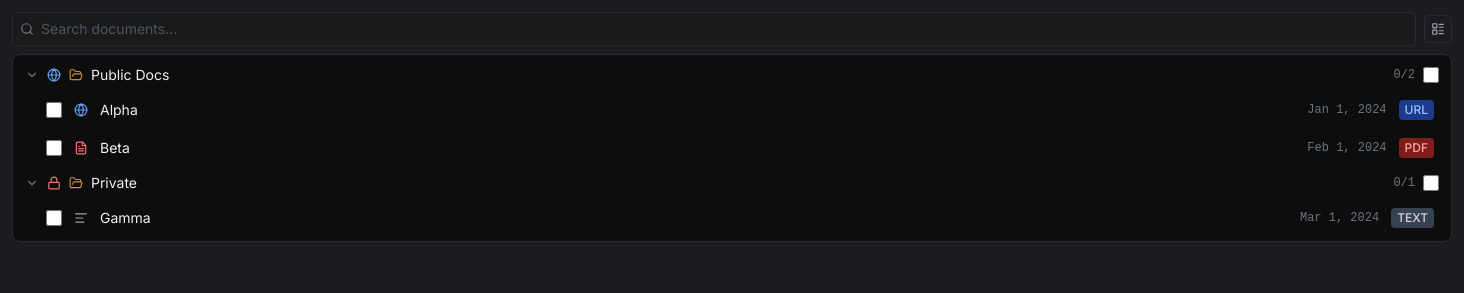
Test: SourceSelector › selection › clears selection when clear button clicked
This screenshot has width=1464, height=293.
Click the checkbox named "Select Alpha": (54, 110) [46,102,62,118]
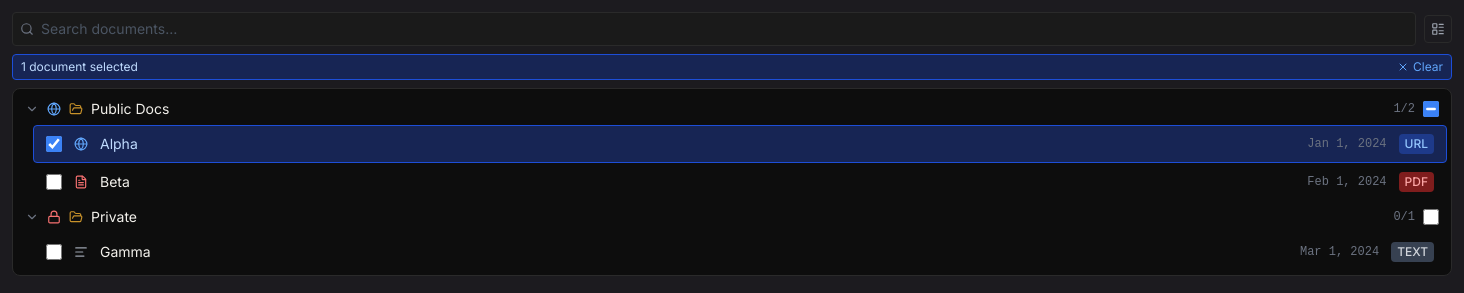
Result: the text "1 document selected" is shown at [21,59,138,75]
Click the button "Clear": (1420, 67) [1397,59,1443,75]
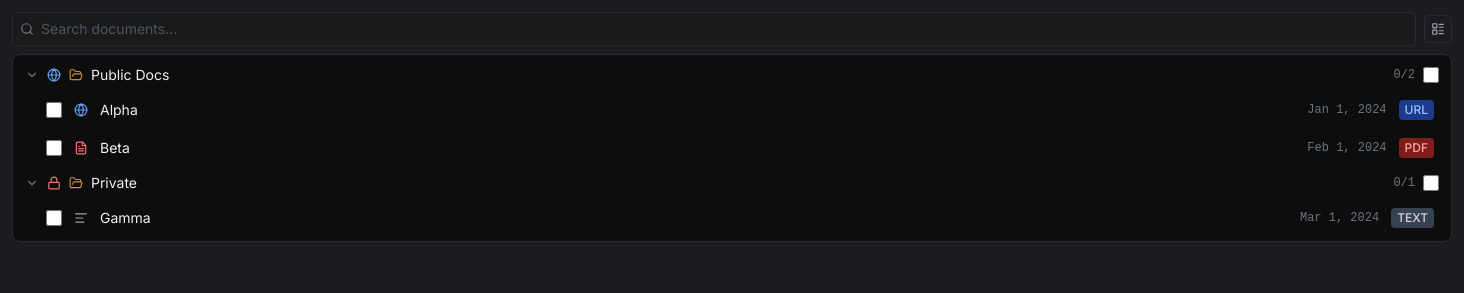
Result: the text "document selected" is gone
